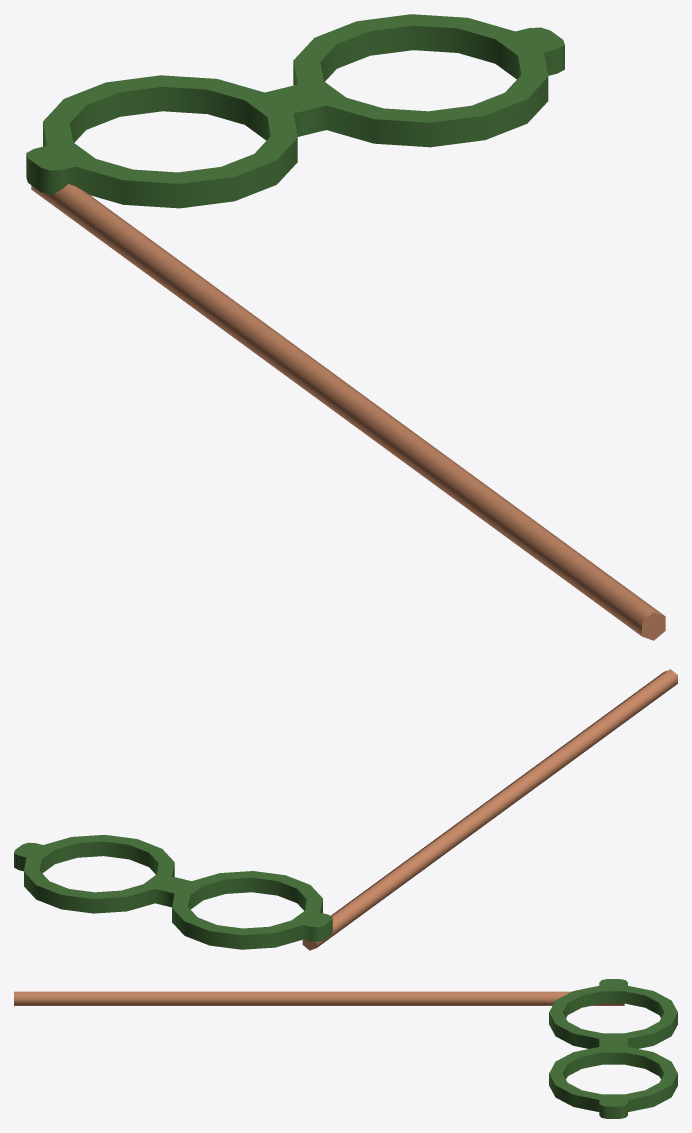
File: StickMaskGlasses_01.fbx
The picture shows the model from 3 angles, top to bottom: view 1: azimuth 30°, elevation 25°; view 2: azimuth 150°, elevation 25°; view 3: azimuth 270°, elevation 25°; orthographic projection. The views are drawn at different scales.
Parts seen in each view (by area): view 1: StickMaskGlasses_01; view 2: StickMaskGlasses_01; view 3: StickMaskGlasses_01.
Boxes of the visible parts, x1=… form: StickMaskGlasses_01: x1=26, y1=14, x2=665, y2=640; StickMaskGlasses_01: x1=14, y1=669, x2=677, y2=950; StickMaskGlasses_01: x1=14, y1=979, x2=677, y2=1118.
Size of the model in its own units: 0.2762 by 0.0222 by 0.6076.
